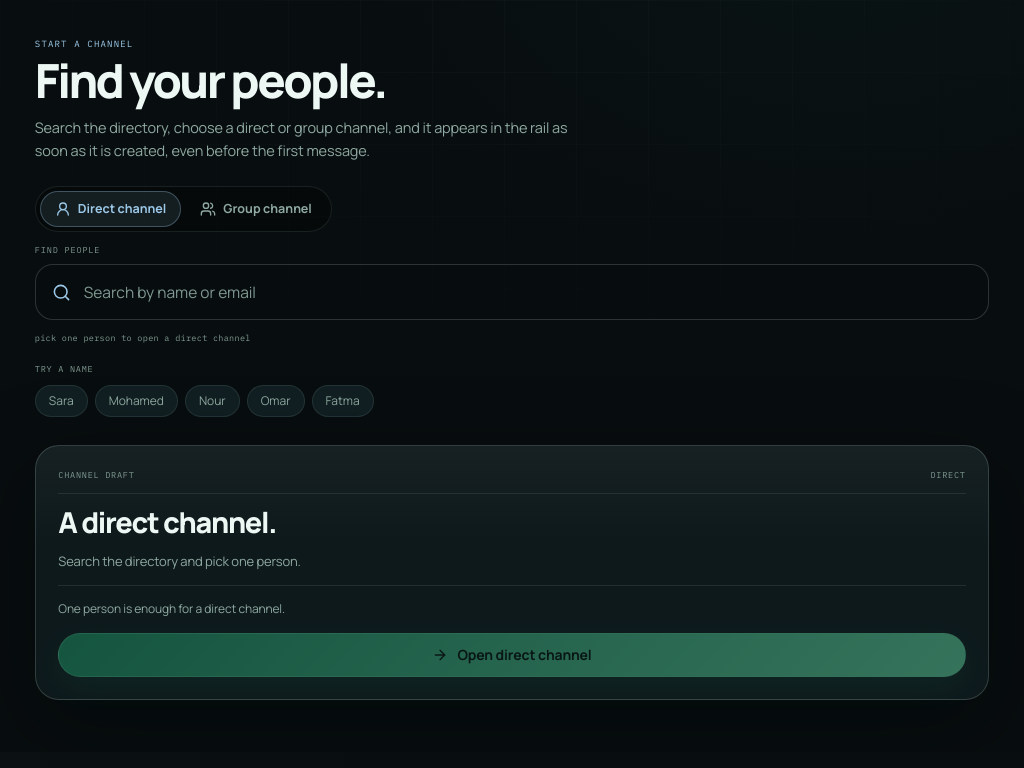
Test: New conversation page › drops bot selections when switching from direct to group mode
The width and height of the screenshot is (1024, 768).
Type "Ada" into the search field with placeholder "Search by name or email" at point(527, 292), box left=82, top=265, right=972, bottom=319
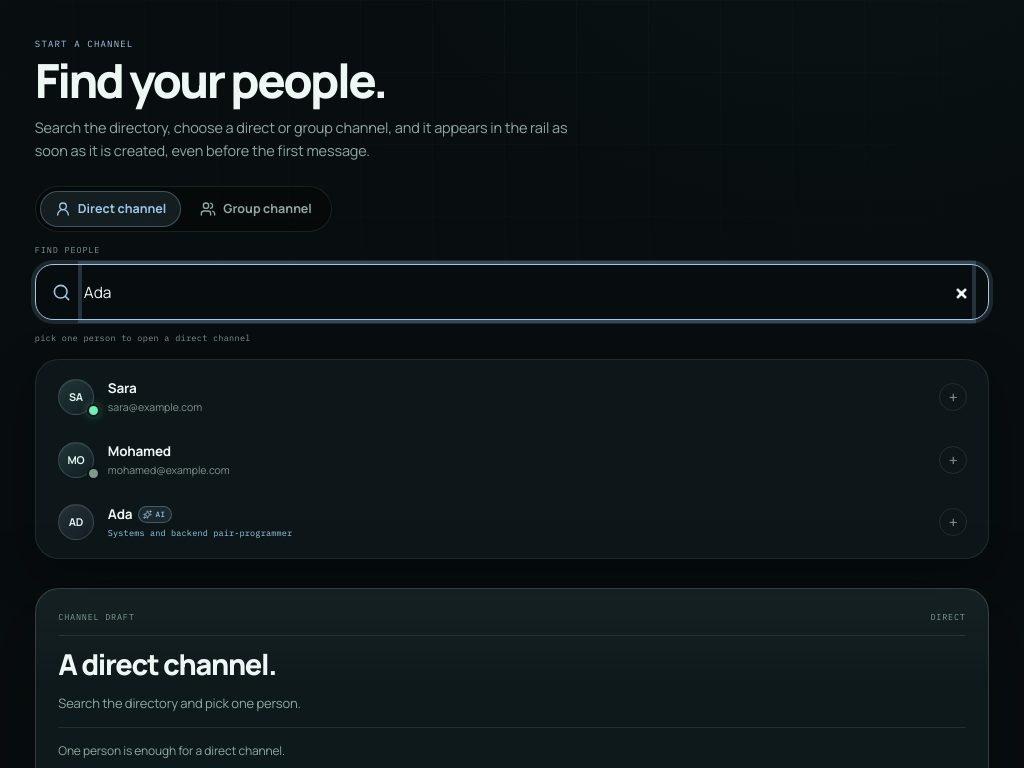
Expected: the element named "Search results" is shown, left=35, top=359, right=989, bottom=559
Click the button "AD Ada AI Systems and backend pair-programmer +" at point(76, 522), box left=43, top=493, right=981, bottom=551
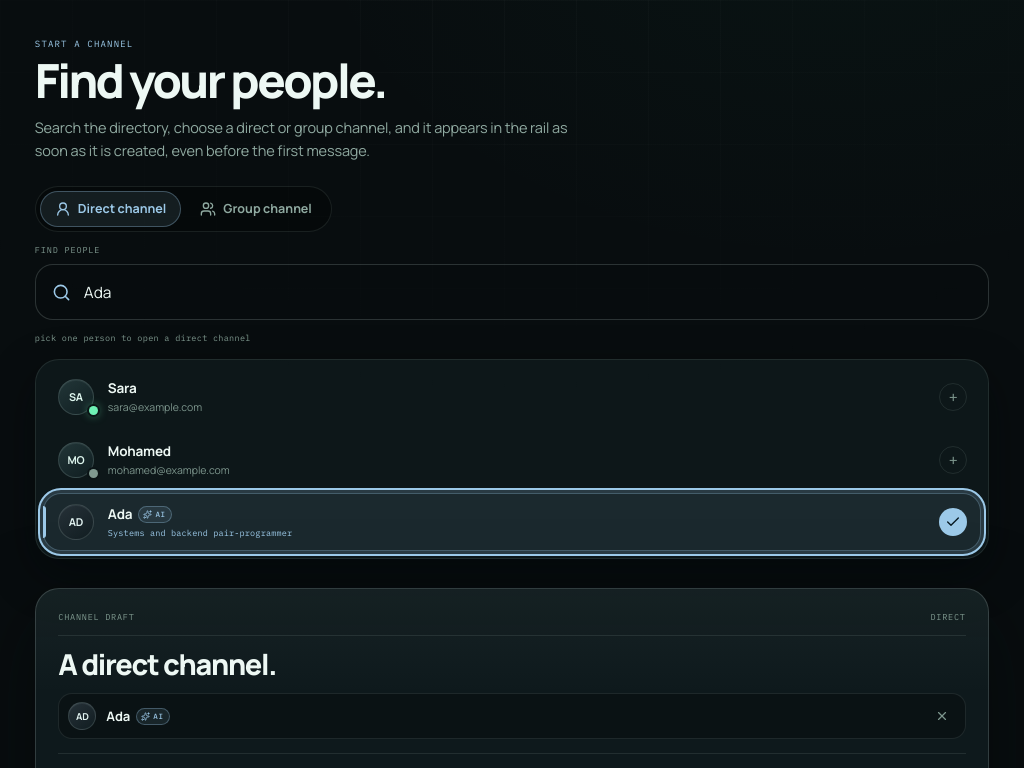
Click the button "Group channel" at point(256, 210), box left=185, top=192, right=327, bottom=228
(page scrolled)
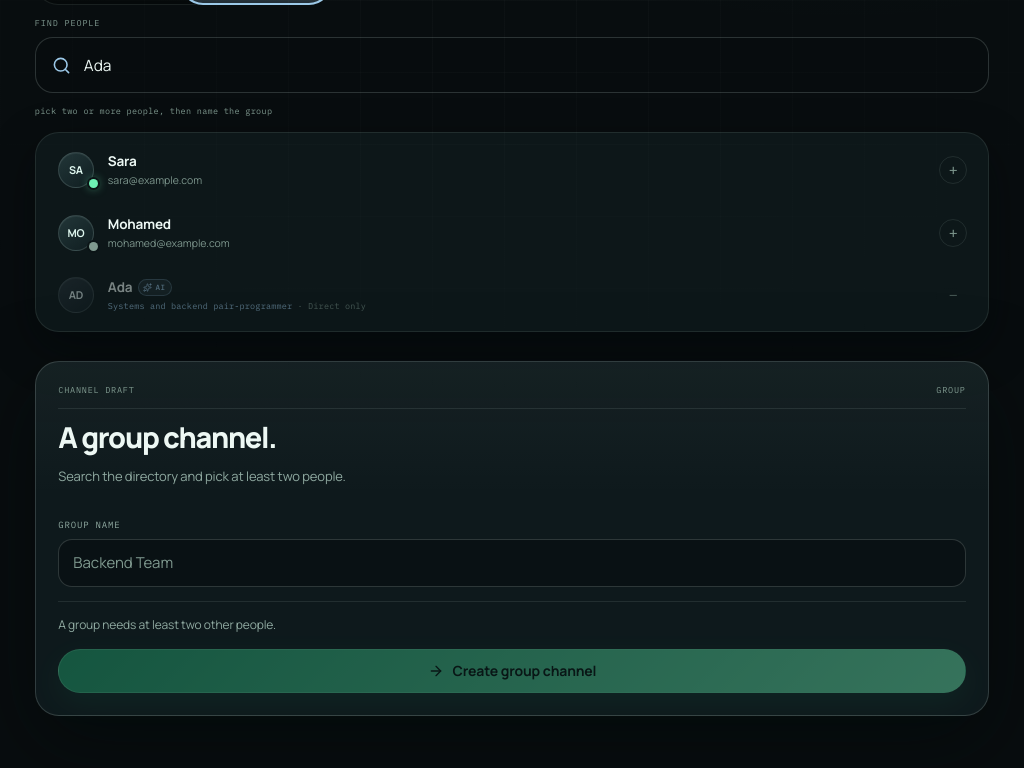
Expected: the element that starts with "channel draft" shows "Search the directory and pick at least two people.", left=58, top=467, right=346, bottom=485
Expected: the element that starts with "channel draft" no longer shows "Ada, an AI operator", left=35, top=361, right=989, bottom=716
